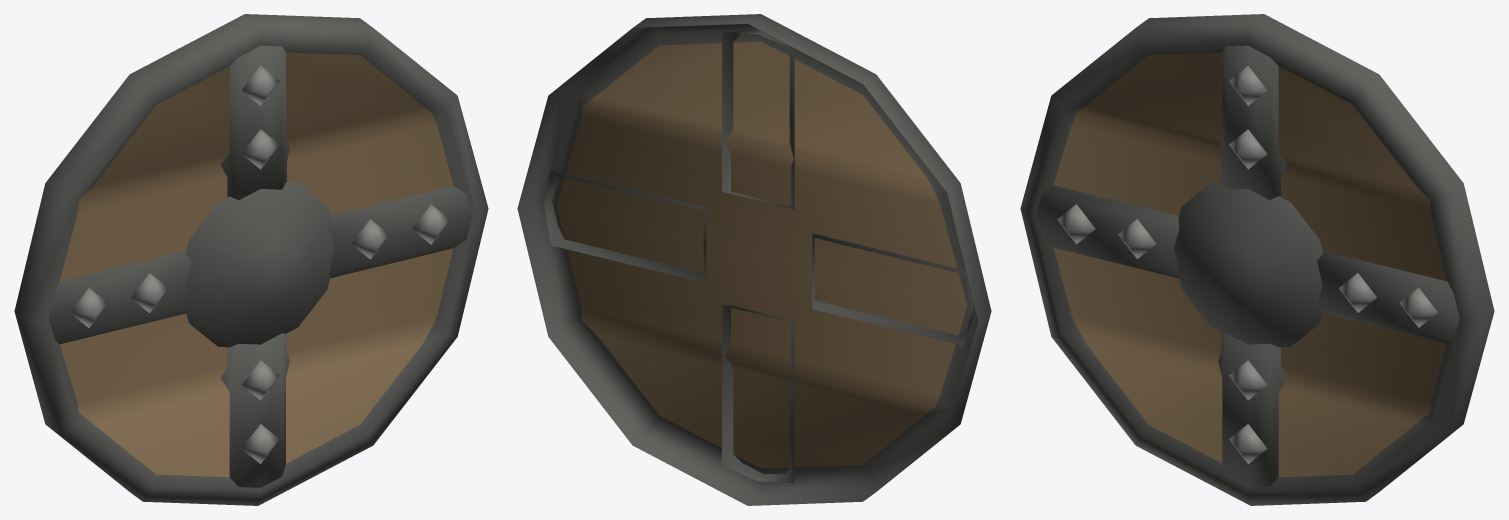
The model's file is rpgpp_ag_shield_wall_01.fbx.
3 views of the same model, side by side, from view 1: azimuth 30°, elevation 25°; view 2: azimuth 150°, elevation 25°; view 3: azimuth 330°, elevation 25° (orthographic).
Visible parts, largest first — view 1: rpgpp_ag_shield_wall_01; view 2: rpgpp_ag_shield_wall_01; view 3: rpgpp_ag_shield_wall_01.
Part boxes in pixels (x1,y1,x2,y2): rpgpp_ag_shield_wall_01: (14, 14, 488, 505); rpgpp_ag_shield_wall_01: (517, 14, 991, 505); rpgpp_ag_shield_wall_01: (1020, 14, 1494, 505).
Bounding box in the file's own units: 1 × 1 × 0.1226.
